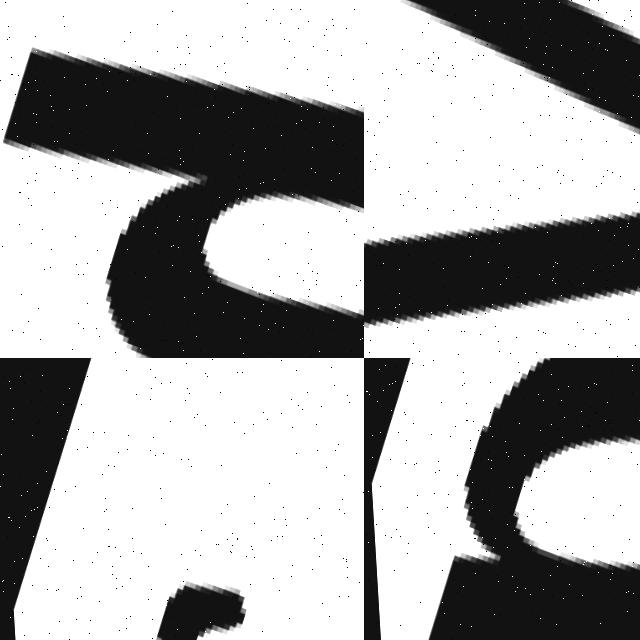H: (0, 0, 364, 358)
Q: (364, 358, 640, 640)
V: (364, 0, 640, 358)
Z: (33, 358, 364, 640)
